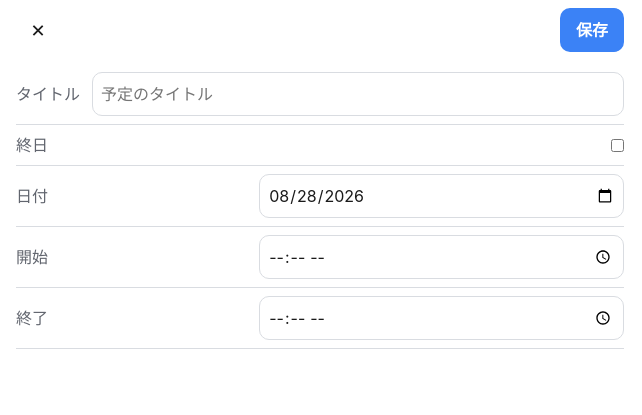
it: EventForm（新規） › 開始時刻未入力（終日でない）で保存するとエラー
Type "会議" into the field labelled "タイトル". click: (358, 94)
box: top-left (92, 72), bottom-right (624, 116)
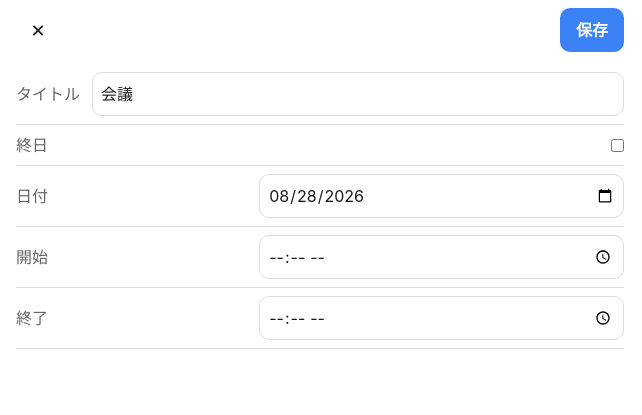
Click the button "保存". click: (592, 30)
box: top-left (560, 8), bottom-right (624, 52)
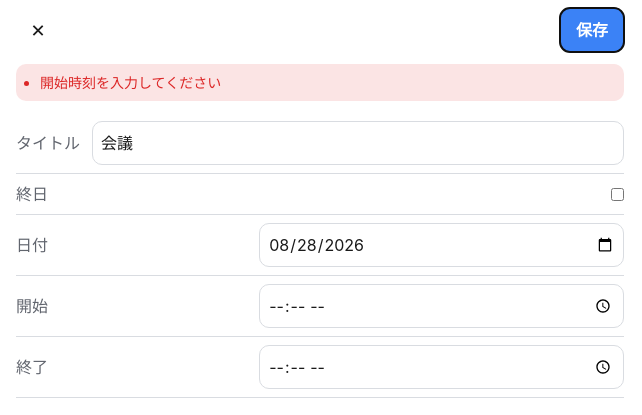
Now the list item "開始時刻を入力してください" is shown, box top-left (40, 74), bottom-right (221, 91)
